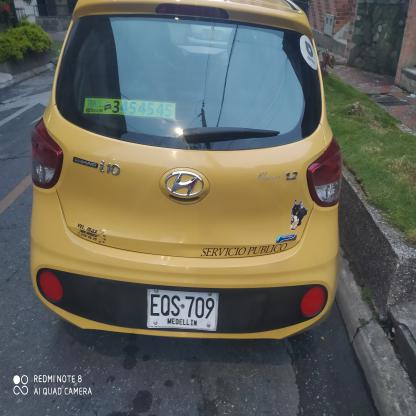placa: (144, 286, 219, 333)
